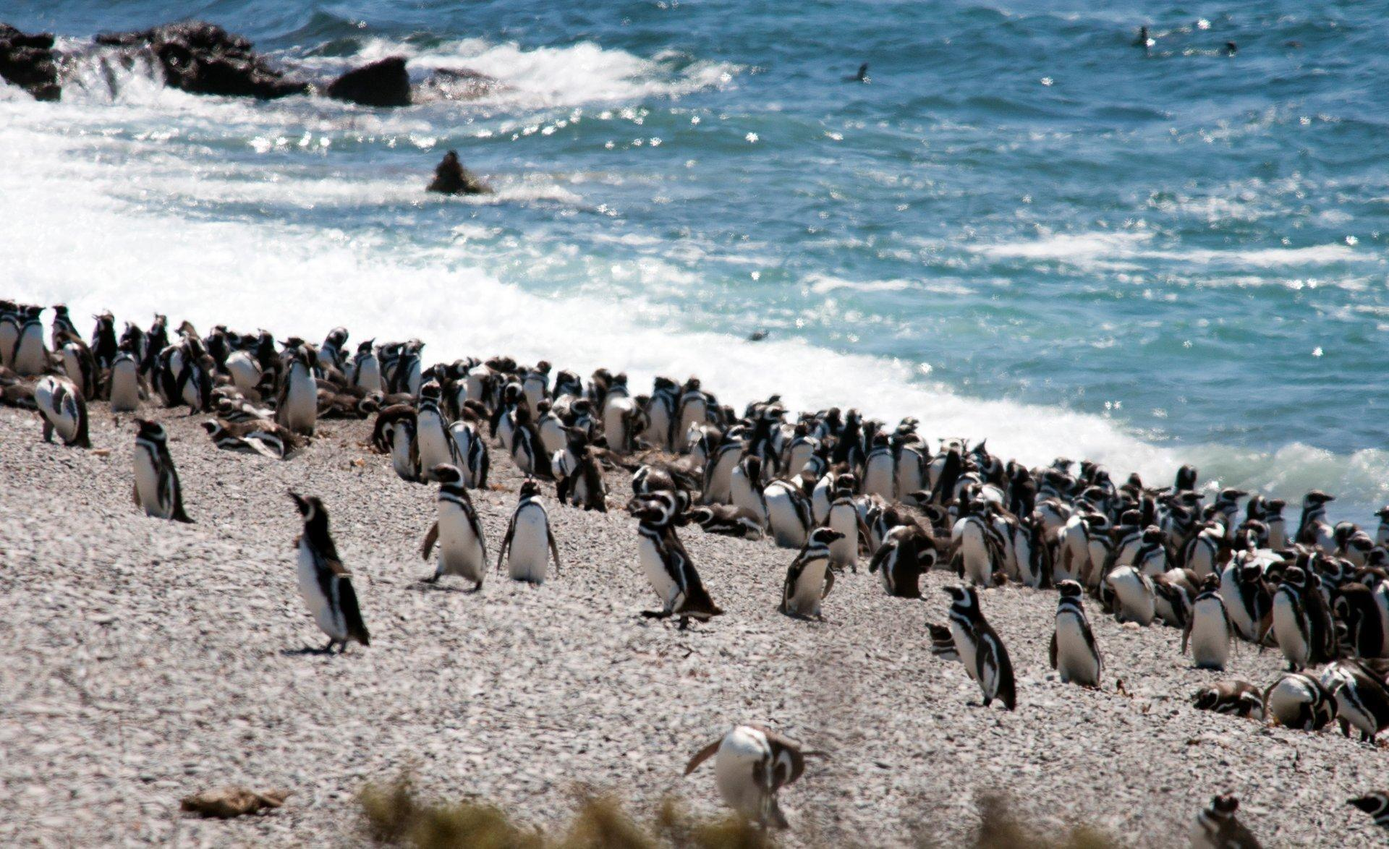Penguin: (684, 724, 820, 829), (626, 491, 724, 628), (290, 491, 368, 651), (925, 586, 1017, 710), (420, 464, 488, 588), (496, 477, 558, 583), (1273, 567, 1335, 671), (133, 418, 192, 524), (778, 526, 844, 618), (1216, 536, 1278, 633), (1050, 581, 1104, 686), (549, 419, 609, 511), (1323, 657, 1388, 735), (415, 380, 464, 482), (868, 524, 935, 598), (1183, 572, 1231, 670), (1265, 670, 1338, 730), (697, 420, 750, 502), (274, 339, 318, 437), (952, 502, 1001, 586), (825, 472, 865, 572), (206, 418, 298, 459), (35, 377, 90, 445), (1336, 592, 1389, 662), (374, 405, 422, 479), (1105, 566, 1160, 625), (511, 402, 551, 483), (763, 480, 811, 547), (893, 418, 930, 498), (1006, 516, 1044, 591), (1239, 562, 1272, 645), (1113, 526, 1165, 577), (1197, 673, 1270, 709), (836, 402, 870, 478), (640, 387, 678, 454), (603, 375, 634, 456), (445, 349, 478, 422), (14, 307, 48, 377), (863, 431, 896, 501), (1259, 498, 1299, 555), (865, 504, 912, 552), (1310, 550, 1359, 596), (929, 438, 964, 502), (172, 347, 208, 409), (59, 335, 96, 395), (715, 496, 766, 539), (732, 456, 768, 516), (1055, 516, 1088, 581), (788, 431, 828, 484), (1078, 532, 1114, 589), (961, 477, 1013, 516), (1205, 479, 1244, 531), (989, 510, 1014, 590), (109, 350, 141, 412), (1006, 460, 1039, 519), (1183, 524, 1217, 581), (447, 417, 474, 485), (674, 419, 723, 456), (671, 491, 715, 532), (757, 403, 787, 463), (401, 340, 433, 394), (674, 381, 710, 428), (627, 453, 675, 488), (919, 503, 951, 555), (538, 398, 567, 455), (589, 368, 619, 422), (1334, 517, 1369, 563), (0, 370, 38, 412), (277, 333, 305, 389), (353, 339, 383, 391), (525, 359, 551, 419), (1152, 577, 1189, 619), (1304, 521, 1346, 558), (229, 346, 263, 391), (359, 388, 422, 412), (467, 362, 493, 420), (1298, 487, 1333, 530), (151, 346, 178, 401), (318, 377, 358, 414), (969, 435, 1003, 476), (742, 386, 784, 419), (51, 303, 80, 350), (93, 313, 119, 364), (323, 323, 347, 376), (378, 341, 405, 387), (849, 486, 887, 518), (470, 425, 488, 492), (795, 452, 820, 499), (0, 312, 22, 365), (459, 396, 496, 427), (487, 406, 514, 448), (789, 404, 821, 437), (122, 319, 148, 359), (552, 368, 583, 401), (205, 320, 231, 359), (1369, 570, 1388, 623), (220, 397, 266, 418), (252, 324, 276, 364), (1169, 488, 1199, 520), (947, 464, 975, 498), (423, 360, 449, 396), (1172, 464, 1202, 495), (148, 310, 166, 358), (501, 382, 527, 414), (1163, 564, 1192, 592), (483, 356, 524, 375), (1368, 540, 1388, 578), (1244, 491, 1265, 527), (179, 319, 202, 349), (1041, 452, 1070, 475), (1371, 503, 1388, 539), (820, 405, 841, 434), (1100, 469, 1120, 498), (1079, 458, 1097, 490), (1121, 473, 1144, 498), (229, 332, 255, 351), (208, 383, 245, 395), (498, 372, 524, 387)
